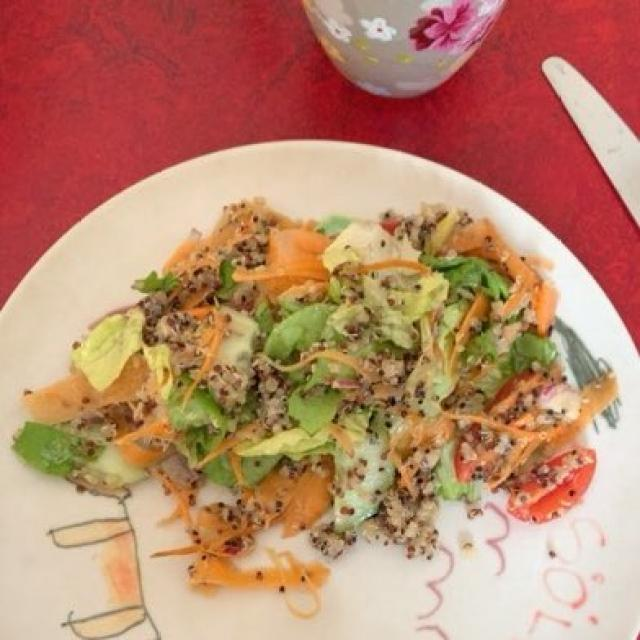carrot: (23, 219, 613, 607)
salad: (81, 220, 557, 486)
tomato: (452, 373, 596, 520)
